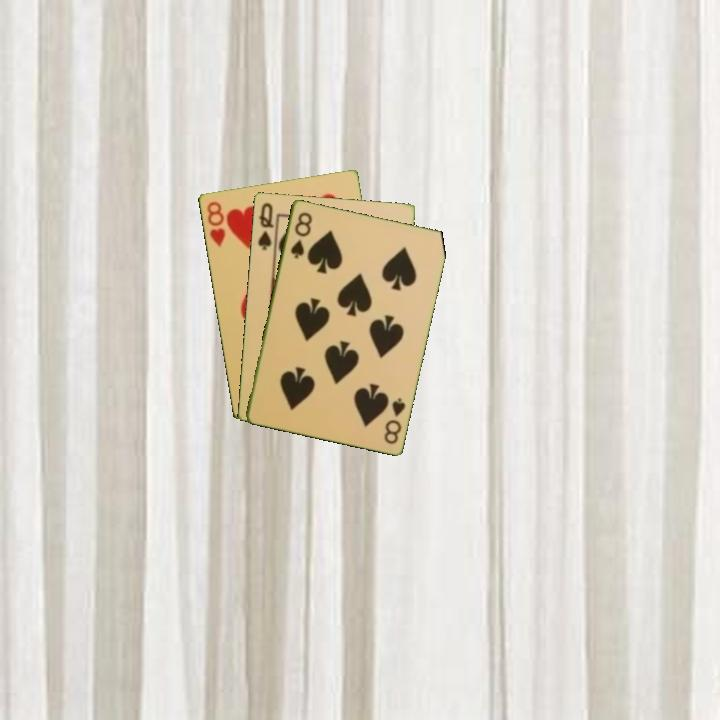8h: (203, 198, 228, 249)
8s: (287, 208, 315, 261), (380, 394, 408, 447)
Qs: (254, 199, 276, 253)
